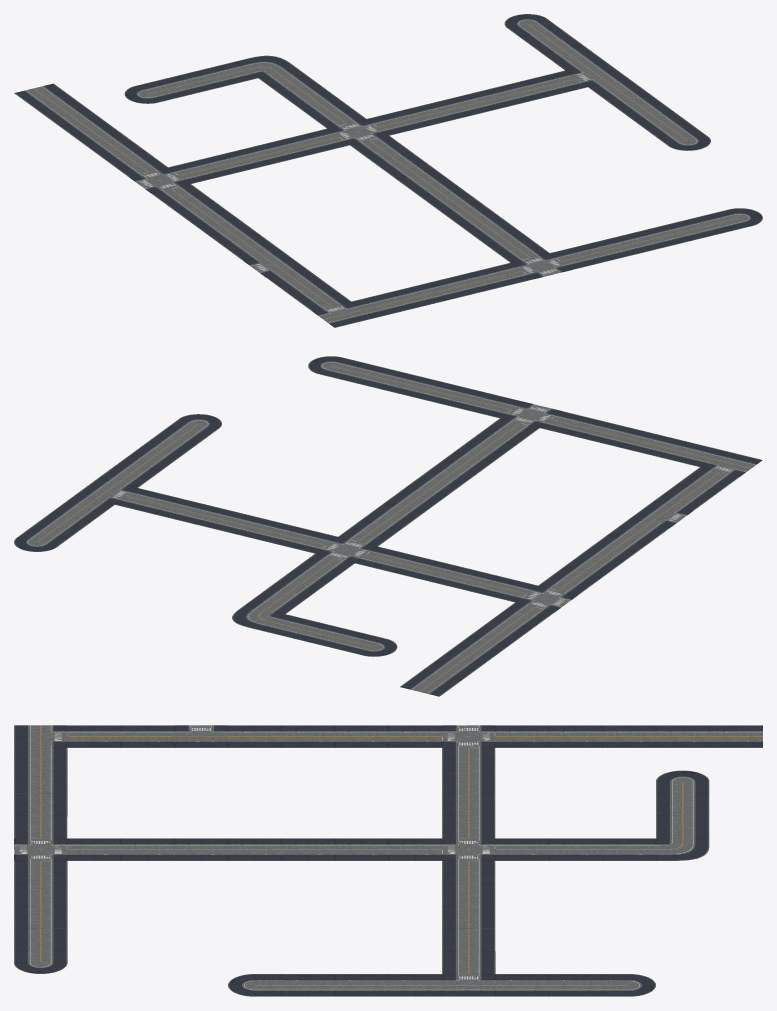
The model's file is m_idle_bg_road_a_06.fbx.
The picture shows the model from 3 angles, top to bottom: view 1: azimuth 30°, elevation 25°; view 2: azimuth 150°, elevation 25°; view 3: azimuth 270°, elevation 25°; orthographic projection. The views are drawn at different scales.
Visible parts, largest first — view 1: m_idle_bg_road_a_06; view 2: m_idle_bg_road_a_06; view 3: m_idle_bg_road_a_06.
Boxes of the visible parts, left/top/right/bottom form: m_idle_bg_road_a_06: left=14, top=14, right=762, bottom=327; m_idle_bg_road_a_06: left=14, top=356, right=762, bottom=696; m_idle_bg_road_a_06: left=14, top=725, right=762, bottom=996.
Size of the model in its own units: 300 by 0.000171 by 350.
